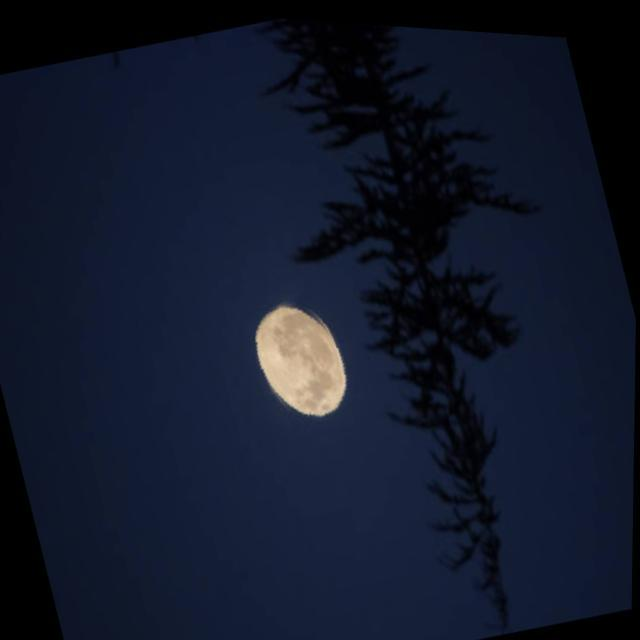moon: (241, 280, 365, 430)
